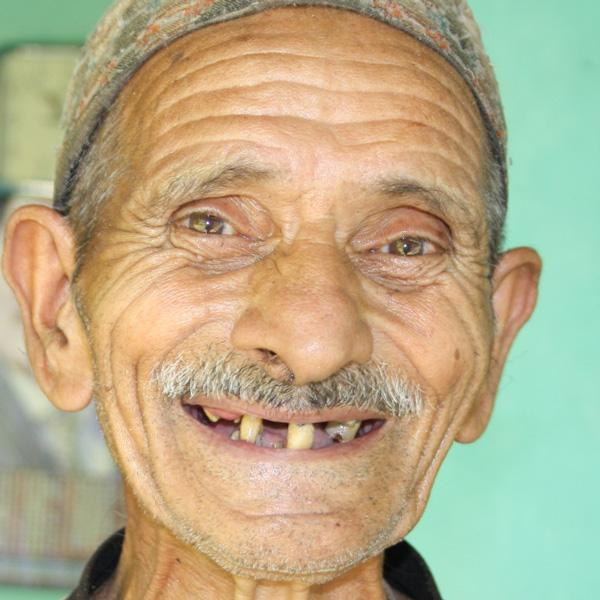Eyes: (351, 209, 460, 281), (162, 194, 266, 259)
